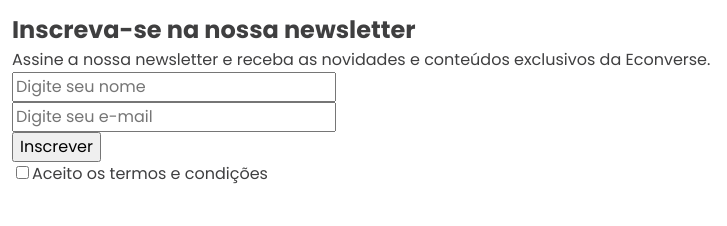
it: Newsletter › confirma a inscrição e limpa o formulário com dados válidos
This screenshot has width=727, height=226.
Type "Ana Souza" into the field labelled "nome". click: (174, 87)
box: [12, 72, 336, 102]
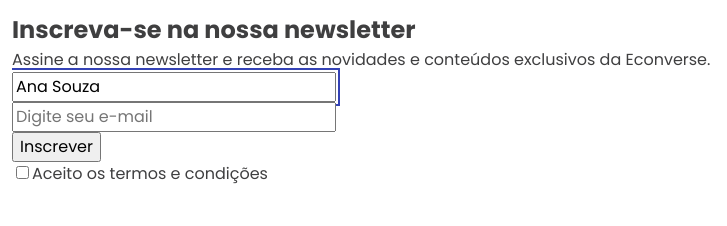
Type "ana@exemplo.com" into the field labelled "e-mail". click: (174, 117)
box: [12, 102, 336, 132]
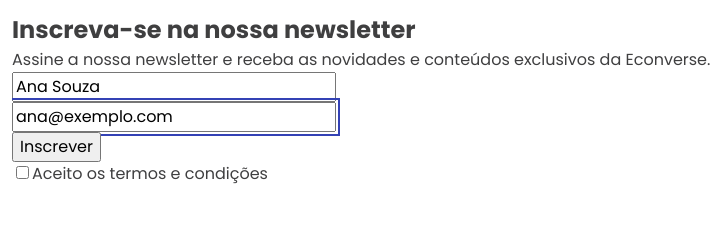
Click the checkbox labelled "Aceito os termos e condições". click: (22, 172)
box: [16, 166, 29, 179]
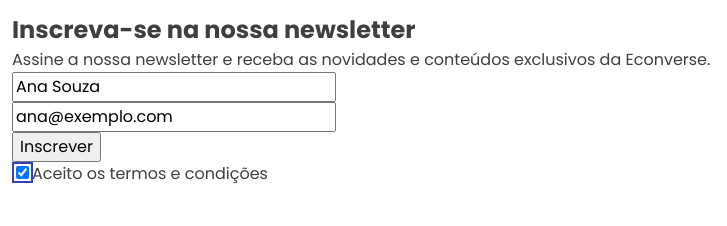
Click the button "Inscrever". click: (56, 147)
box: [12, 132, 101, 162]
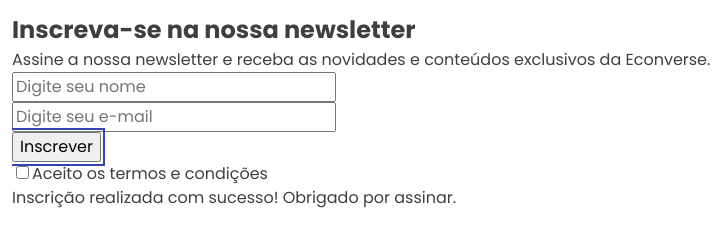
Result: the checkbox labelled "Aceito os termos e condições" is not checked at [16, 166, 29, 179]
Result: the message shows "Inscrição realizada com sucesso" at [12, 186, 456, 209]
Result: the field labelled "nome" is empty at [12, 72, 336, 102]
